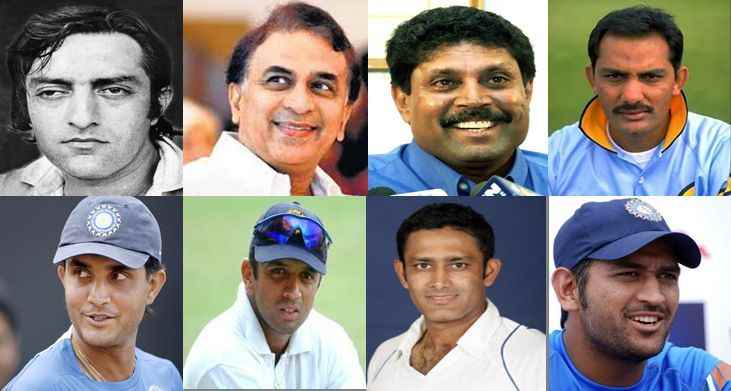NoMask: (29, 68, 141, 181), (425, 62, 521, 167), (250, 59, 338, 170), (598, 261, 680, 358), (63, 256, 140, 351), (596, 60, 670, 134), (407, 251, 479, 321), (258, 260, 318, 335)
